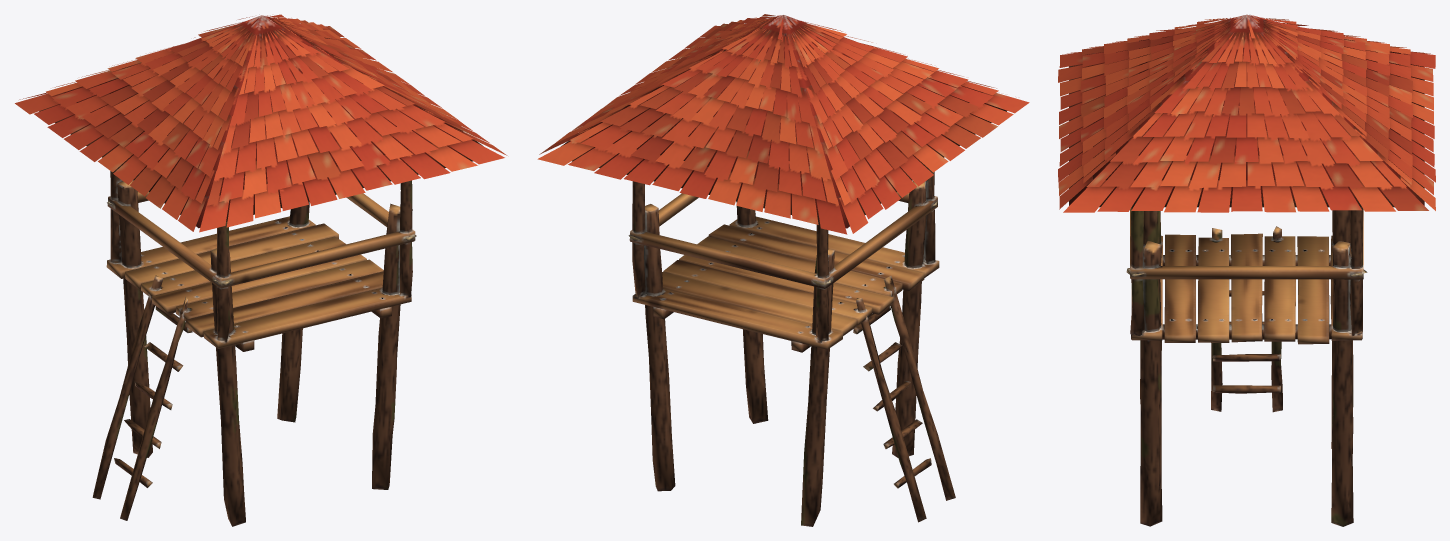
File: watch_post.glb
3 views of the same model, side by side, from view 1: azimuth 30°, elevation 25°; view 2: azimuth 150°, elevation 25°; view 3: azimuth 270°, elevation 25° (orthographic). The views are drawn at different scales.
Parts seen in each view (by area): view 1: watch_post; view 2: watch_post; view 3: watch_post.
Boxes of the visible parts, <box> form: watch_post: <box>15,14,507,526</box>; watch_post: <box>537,14,1029,526</box>; watch_post: <box>1058,14,1435,526</box>.
Bounding box in the file's own units: 2.76 × 3.82 × 2.76.
Materials: 1 (1 with a texture image).
